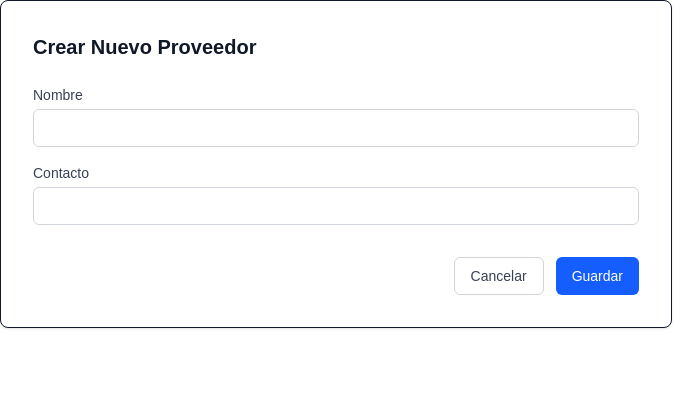
Test: ProveedorForm › shows error message on failure
Type "Nuevo" into the field labelled "Nombre" at [336, 128], box [33,109,639,147]
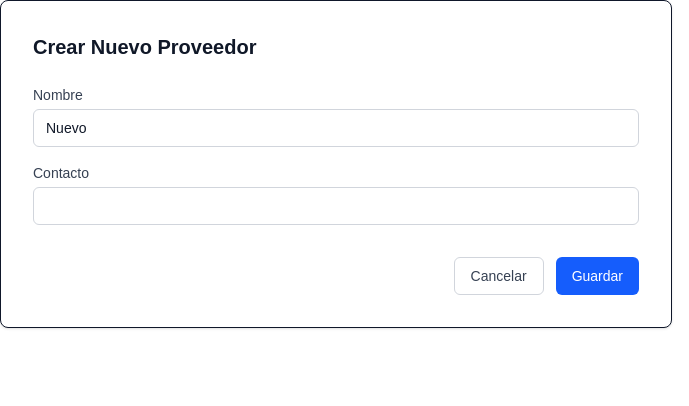
Click the button "Guardar" at [597, 276], box [556,257,639,295]
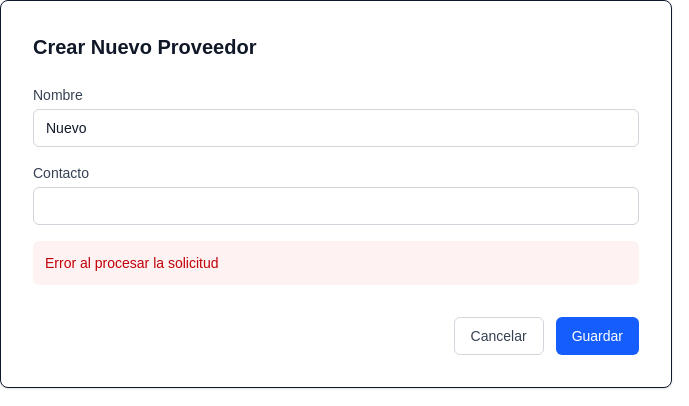
Expected: the text "Error al procesar la solicitud" is shown, [33,241,639,285]
